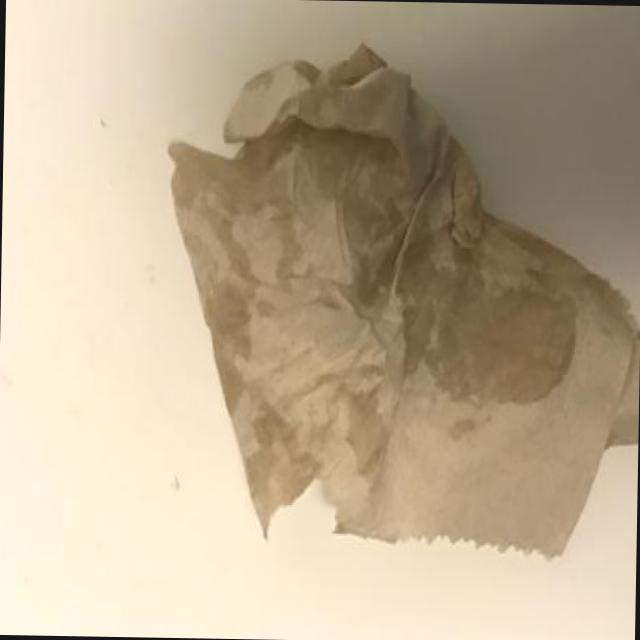giay: (169, 46, 640, 557)
